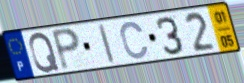2: (184, 10, 217, 54)
3: (156, 15, 185, 57)
C: (119, 20, 150, 61)
I: (97, 22, 117, 65)
P: (49, 26, 82, 73)
Q: (27, 31, 61, 74)
